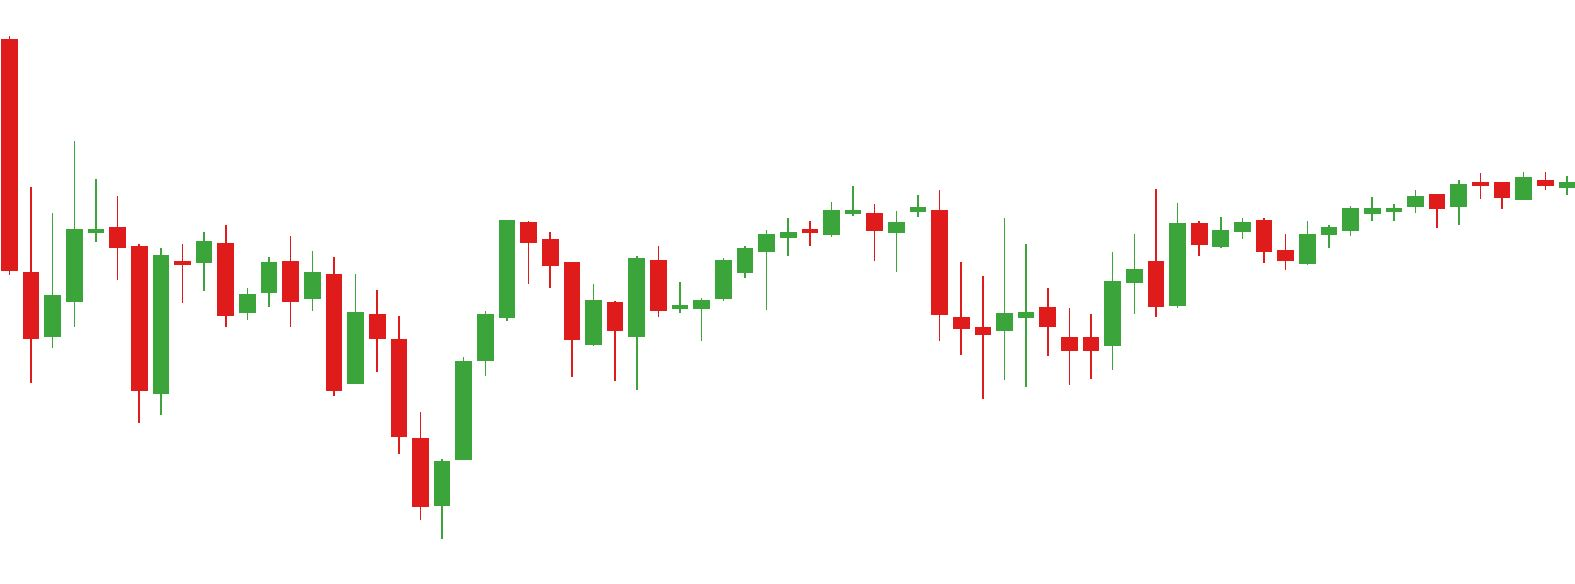sell: (324, 213, 561, 392)
